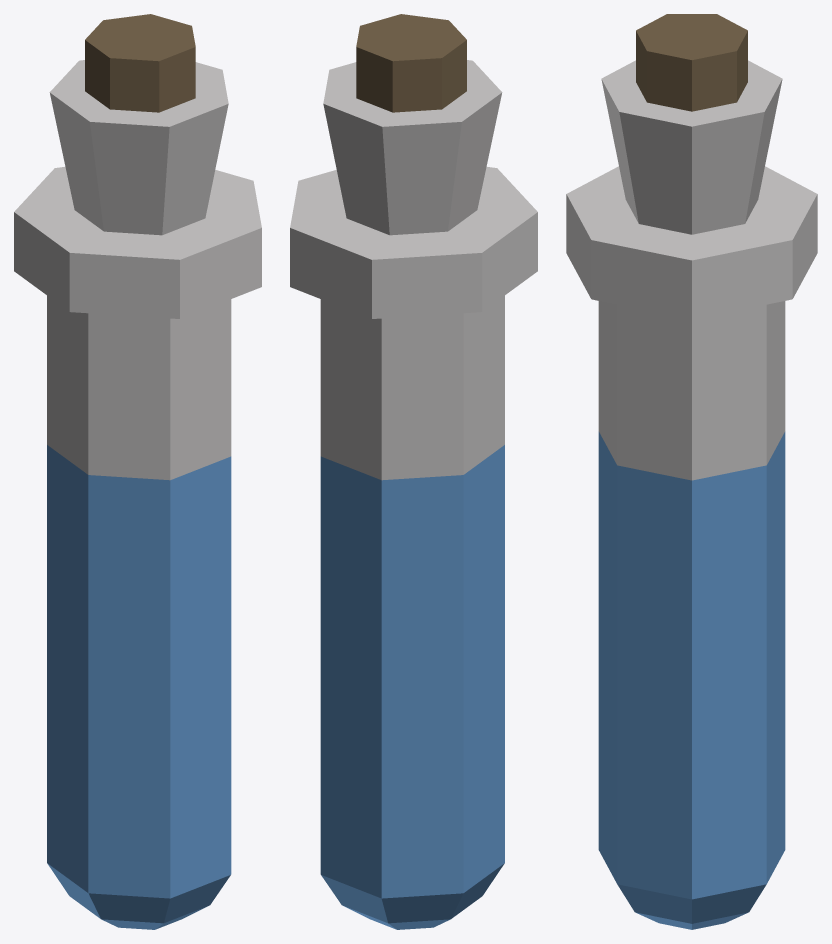
The model's file is WF_LP_HT_Props_PotionBottle.010.fbx.
The picture shows the model from 3 angles, left to right: view 1: azimuth 30°, elevation 25°; view 2: azimuth 150°, elevation 25°; view 3: azimuth 270°, elevation 25°; orthographic projection.
Visible parts, largest first — view 1: WF_LP_HT_Props_PotionBottle.010; view 2: WF_LP_HT_Props_PotionBottle.010; view 3: WF_LP_HT_Props_PotionBottle.010.
Boxes of the visible parts, box(x1,y1,x2,y2) form: WF_LP_HT_Props_PotionBottle.010: box(14, 14, 261, 929); WF_LP_HT_Props_PotionBottle.010: box(290, 14, 537, 929); WF_LP_HT_Props_PotionBottle.010: box(566, 14, 817, 929).
Size of the model in its own units: 0.0608 by 0.2401 by 0.0624.
